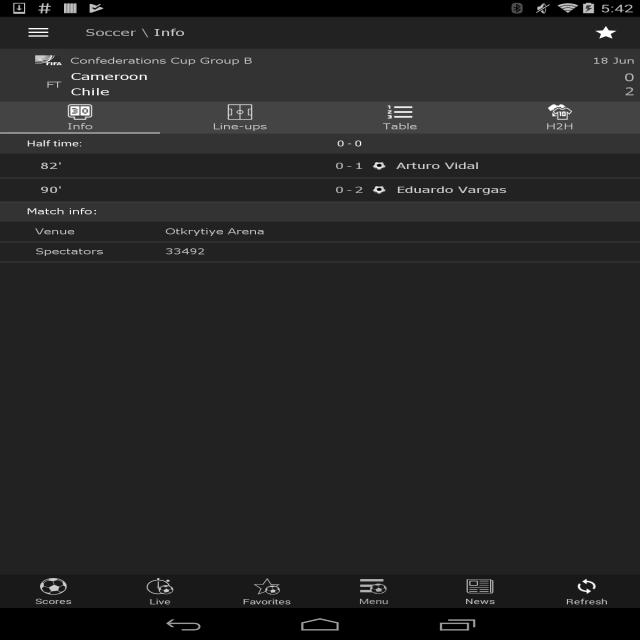ImageButton: (9, 16, 68, 48)
ImageView: (67, 103, 93, 120), (227, 103, 253, 120), (387, 103, 413, 120), (547, 103, 573, 120), (35, 56, 62, 66)
TextView: (0, 202, 640, 222), (70, 70, 624, 83), (70, 86, 624, 98), (70, 56, 592, 66), (0, 223, 160, 240), (0, 243, 160, 260), (160, 223, 265, 240), (580, 16, 632, 48), (8, 72, 62, 90), (160, 243, 205, 260), (85, 26, 136, 39), (213, 120, 267, 132), (592, 56, 634, 66), (383, 120, 417, 132), (153, 26, 184, 39), (546, 120, 573, 132), (67, 120, 93, 132), (136, 26, 154, 39), (624, 70, 635, 85), (624, 84, 635, 99)
